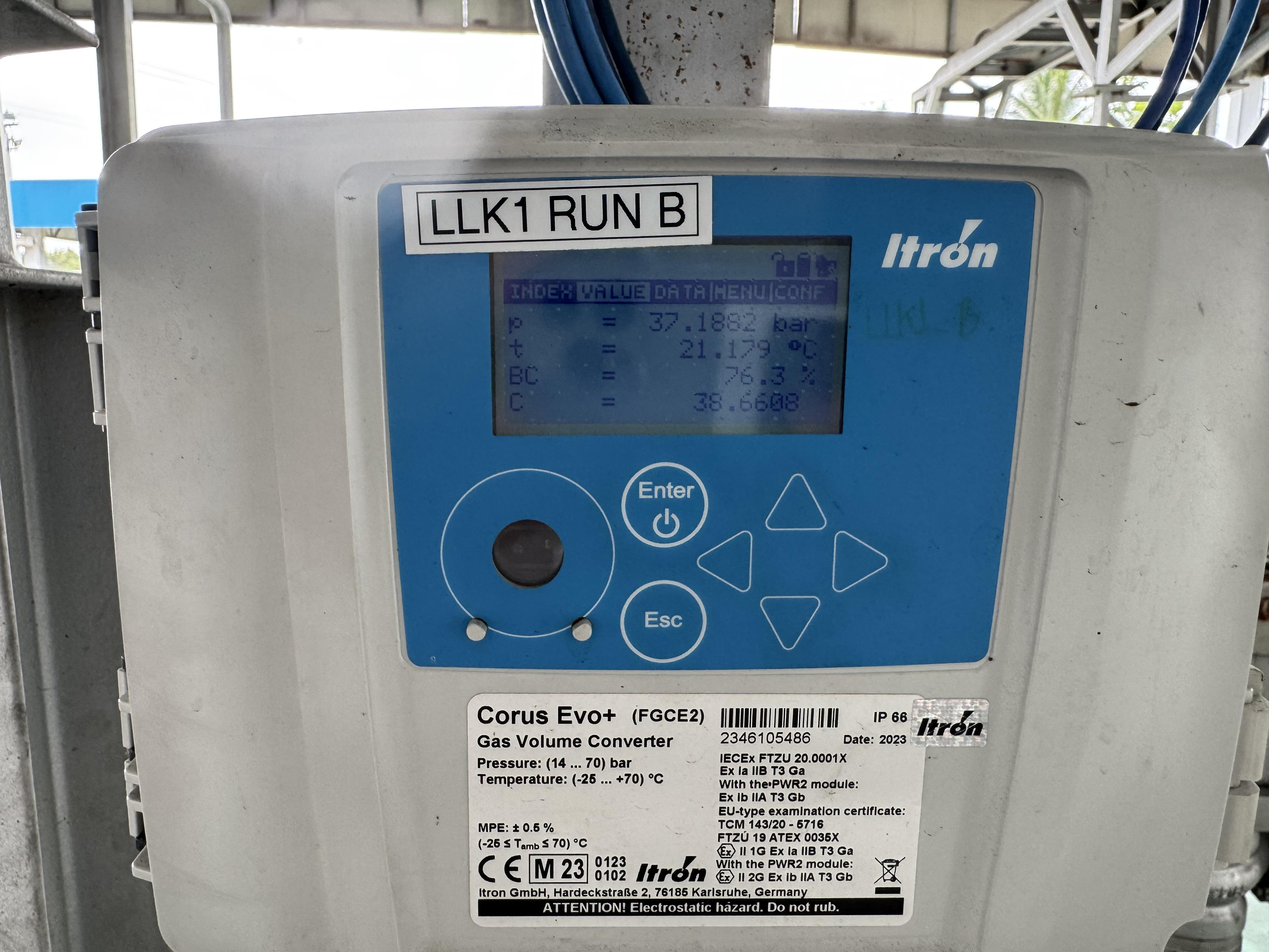digital_screen: (489, 236, 853, 436)
